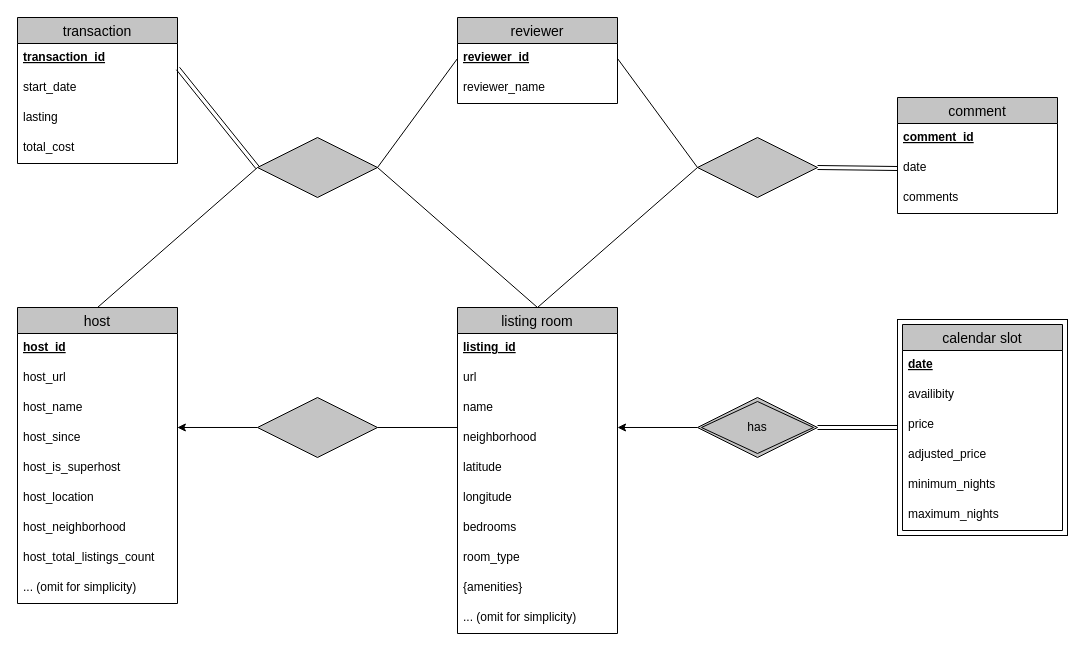
This 1085x654 diagram has some shape labels left out. The centre of each missing label's shape, as x and y in pixels:
"CRL" goes at pixel 757 167.
"holds" goes at pixel 317 427.
"TRBL" goes at pixel 317 167.
